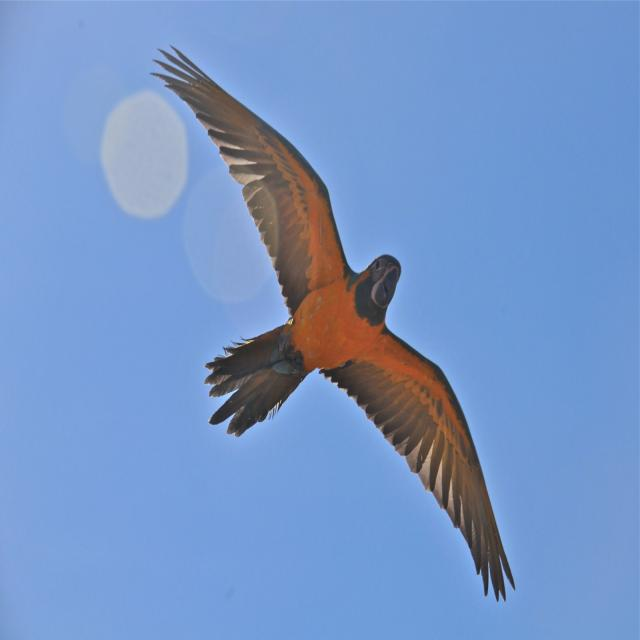bird: (144, 36, 517, 604)
